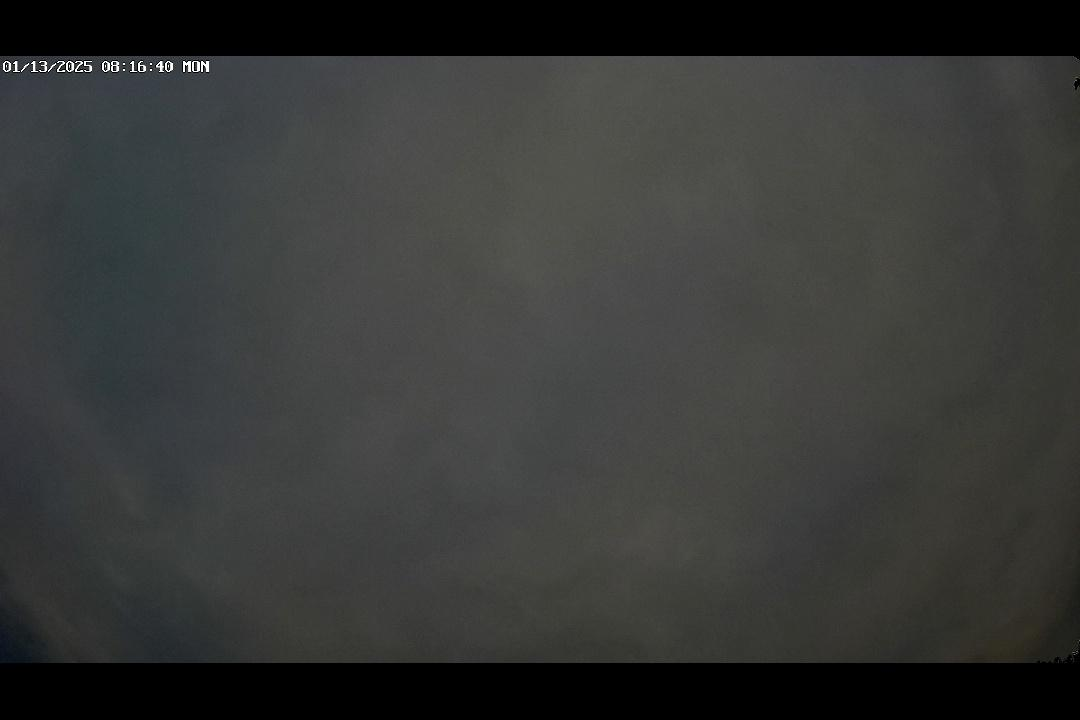WildLife: (1059, 74, 1079, 96)
